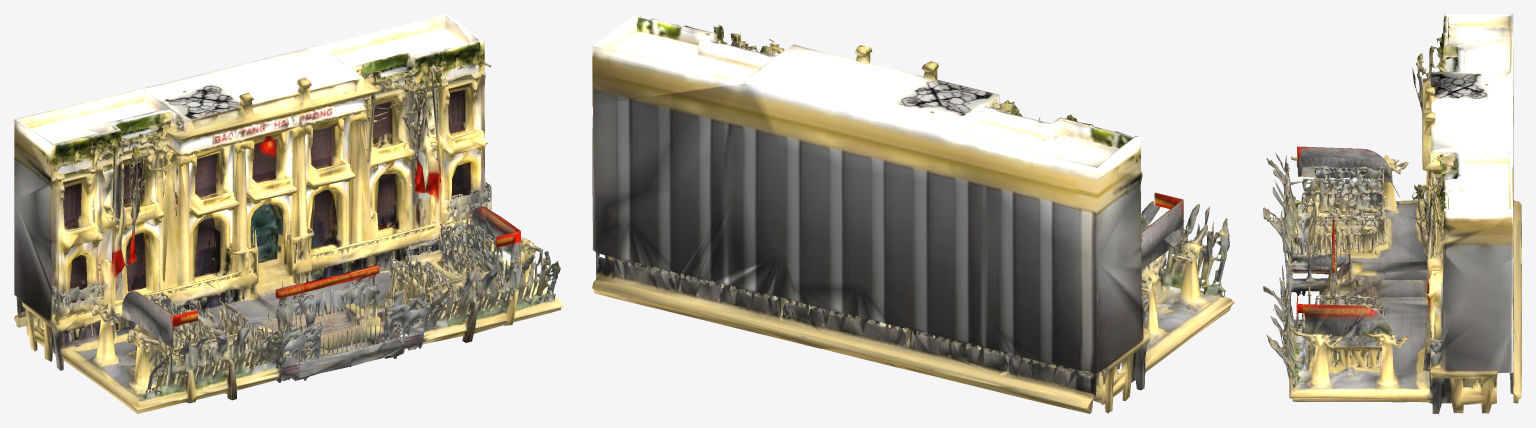
The model's file is baotang.glb.
3 views of the same model, side by side, from view 1: azimuth 30°, elevation 25°; view 2: azimuth 150°, elevation 25°; view 3: azimuth 270°, elevation 25° (orthographic). The views are drawn at different scales.
Parts seen in each view (by area): view 1: Mesh_0; view 2: Mesh_0; view 3: Mesh_0.
Part boxes in pixels (box(x1,y1,x2,y2)): Mesh_0: box(14, 14, 563, 413); Mesh_0: box(592, 14, 1234, 413); Mesh_0: box(1263, 14, 1521, 413).
Bounding box in the file's own units: 1.9 × 0.9773 × 1.05.
1 material, 1 textured.
